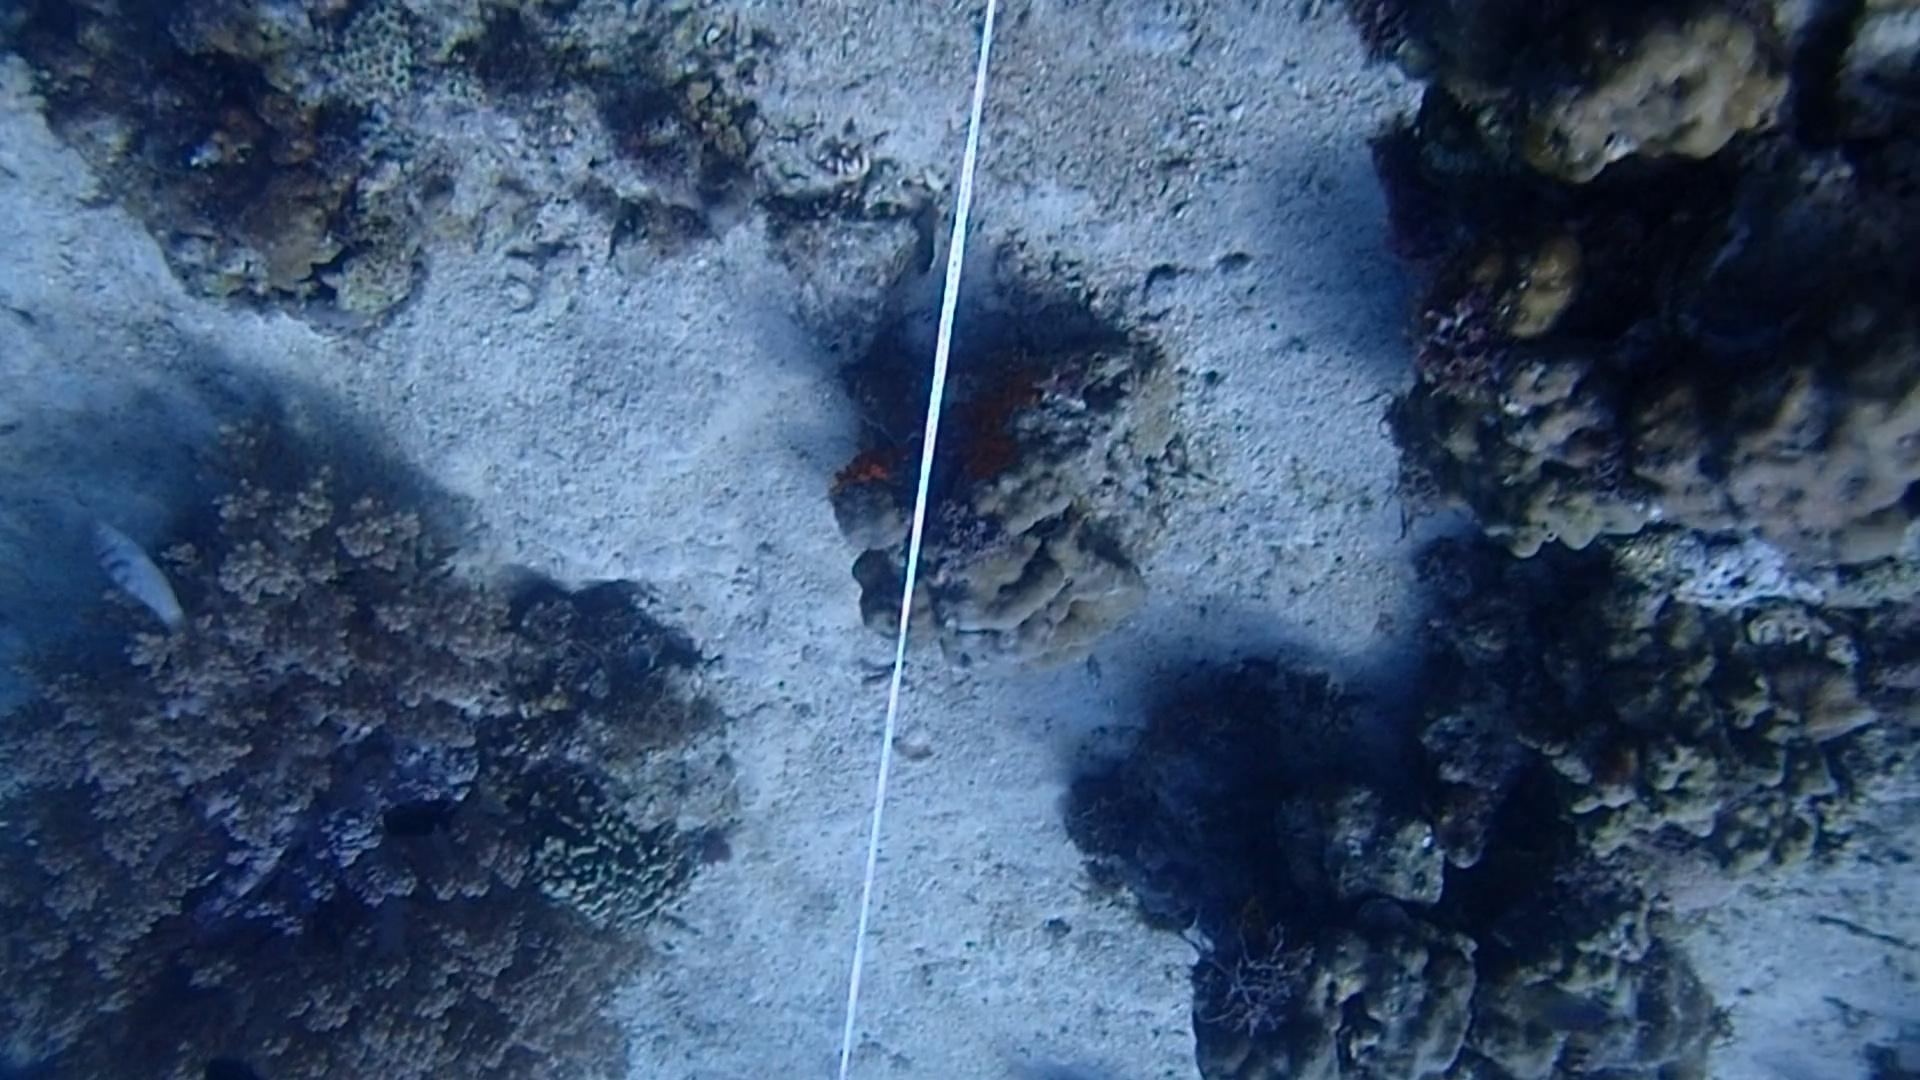Dark Fish: (365, 794, 471, 837)
Light Fish w Back Stripes: (78, 510, 193, 644)
